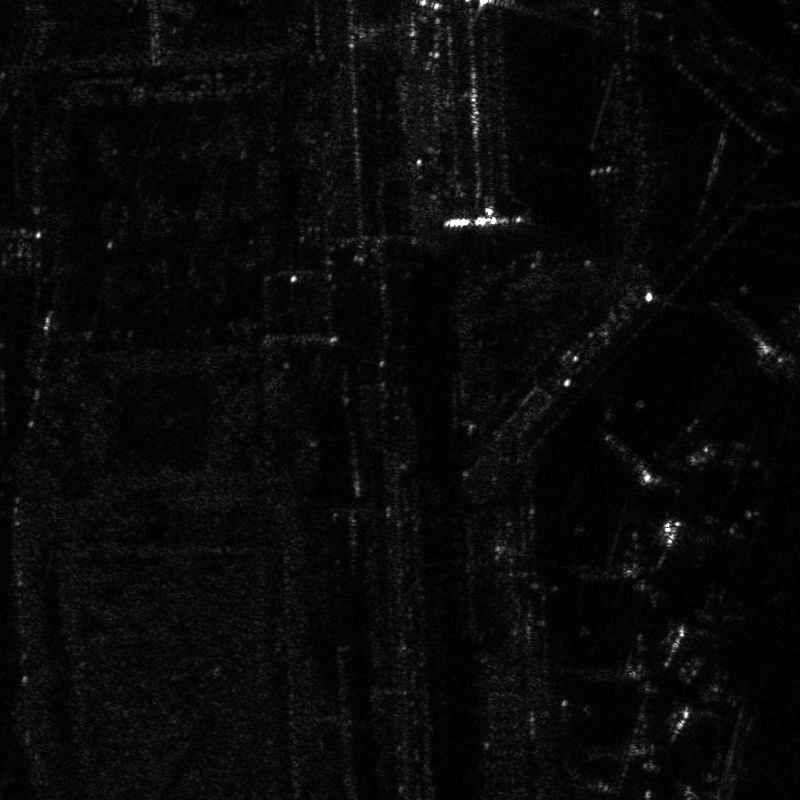A320/321: (654, 571, 770, 668)
